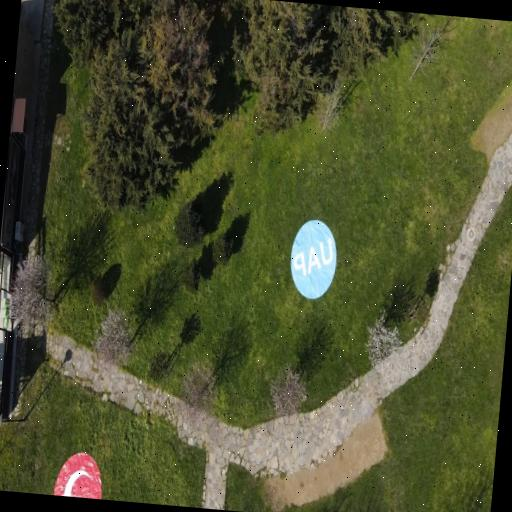UAI: (54, 453, 102, 499)
UAP: (291, 220, 337, 299)
